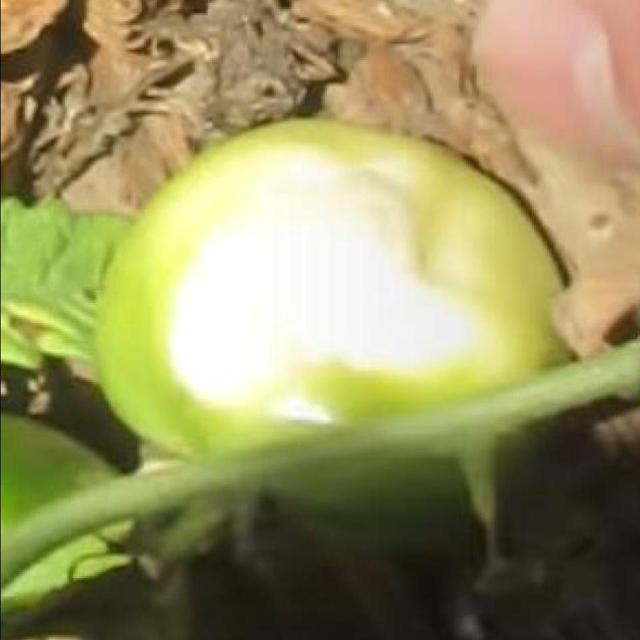Sunscald Fruit: (99, 84, 346, 268)
